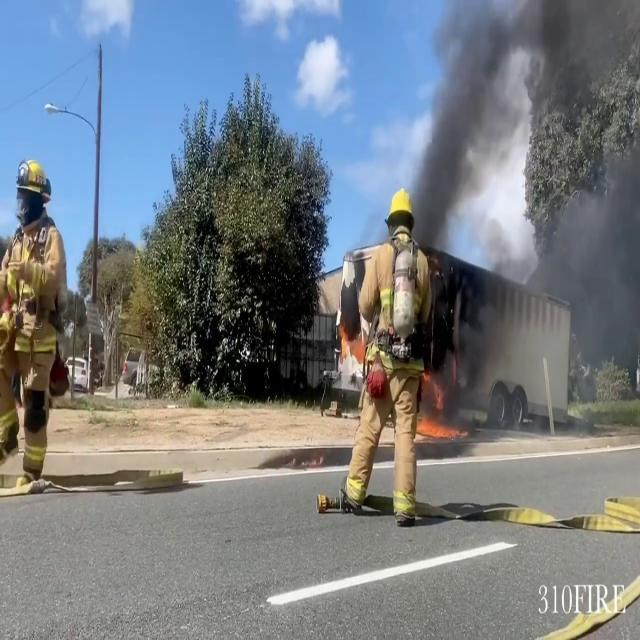Smoke: (402, 0, 584, 245), (547, 169, 640, 352)
